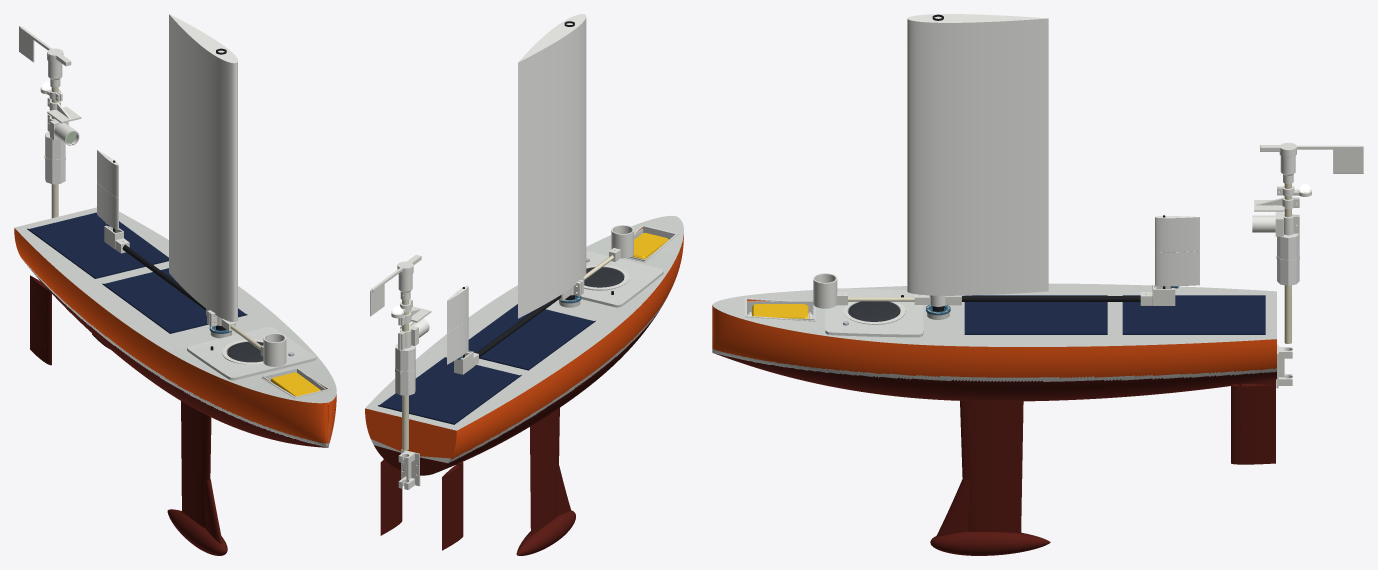
Rendered from drone_boat_revF_exterior.glb.
3 views of the same model, side by side, from view 1: azimuth 30°, elevation 25°; view 2: azimuth 150°, elevation 25°; view 3: azimuth 270°, elevation 25° (orthographic). The views are drawn at different scales.
Parts seen in each view (by area): view 1: wing, hull, deck, solar2, solar1, fin, hatch_lid, bulb, radar, P13a_stbd, P13b_stbd, P02 (+9 smaller); view 2: wing, deck, hull, solar2, solar1, transom, fin, hatch_lid, bulb, radar, P13a_stbd, P13b_port (+14 smaller); view 3: wing, hull, deck, fin, solar2, solar1, hatch_lid, bulb, P13a_port, P13b_port, P10b, P10a (+7 smaller).
Part boxes in pixels (<box>): wing: <box>169,14,237,321</box>; hull: <box>14,228,336,447</box>; deck: <box>14,207,336,403</box>; solar2: <box>27,212,168,278</box>; solar1: <box>102,268,247,333</box>; fin: <box>181,401,211,527</box>; hatch_lid: <box>187,326,316,380</box>; bulb: <box>167,509,227,555</box>; radar: <box>44,131,65,184</box>; P13a_stbd: <box>30,275,51,327</box>; P13b_stbd: <box>30,313,51,365</box>; P02: <box>19,26,71,66</box>; wing: <box>518,14,586,318</box>; deck: <box>365,215,683,430</box>; hull: <box>437,228,683,472</box>; solar2: <box>378,357,521,424</box>; solar1: <box>468,304,595,370</box>; transom: <box>365,408,456,475</box>; fin: <box>530,408,559,535</box>; hatch_lid: <box>581,250,663,307</box>; bulb: <box>516,510,575,555</box>; radar: <box>395,344,415,395</box>; P13a_stbd: <box>442,462,463,513</box>; P13b_port: <box>380,488,402,535</box>; wing: <box>907,14,1048,295</box>; hull: <box>712,299,1276,401</box>; deck: <box>712,283,1276,346</box>; fin: <box>960,401,1023,533</box>; solar2: <box>1122,295,1265,334</box>; solar1: <box>964,295,1107,334</box>; hatch_lid: <box>825,288,923,337</box>; bulb: <box>930,531,1050,555</box>; P13a_port: <box>1231,384,1275,425</box>; P13b_port: <box>1231,424,1275,464</box>; P10b: <box>1155,216,1199,252</box>; P10a: <box>1155,251,1199,286</box>.
Size of the model in its own units: 0.4 by 1.58 by 1.73.
